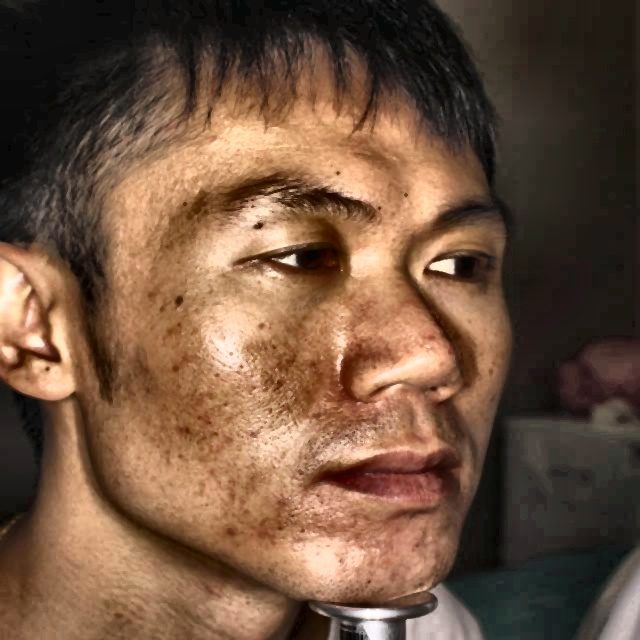comedone: (220, 518, 252, 547)
